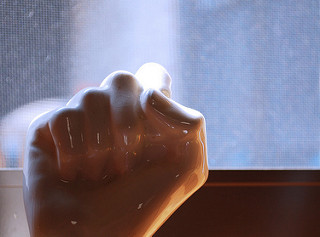fist: (31, 73, 211, 217)
